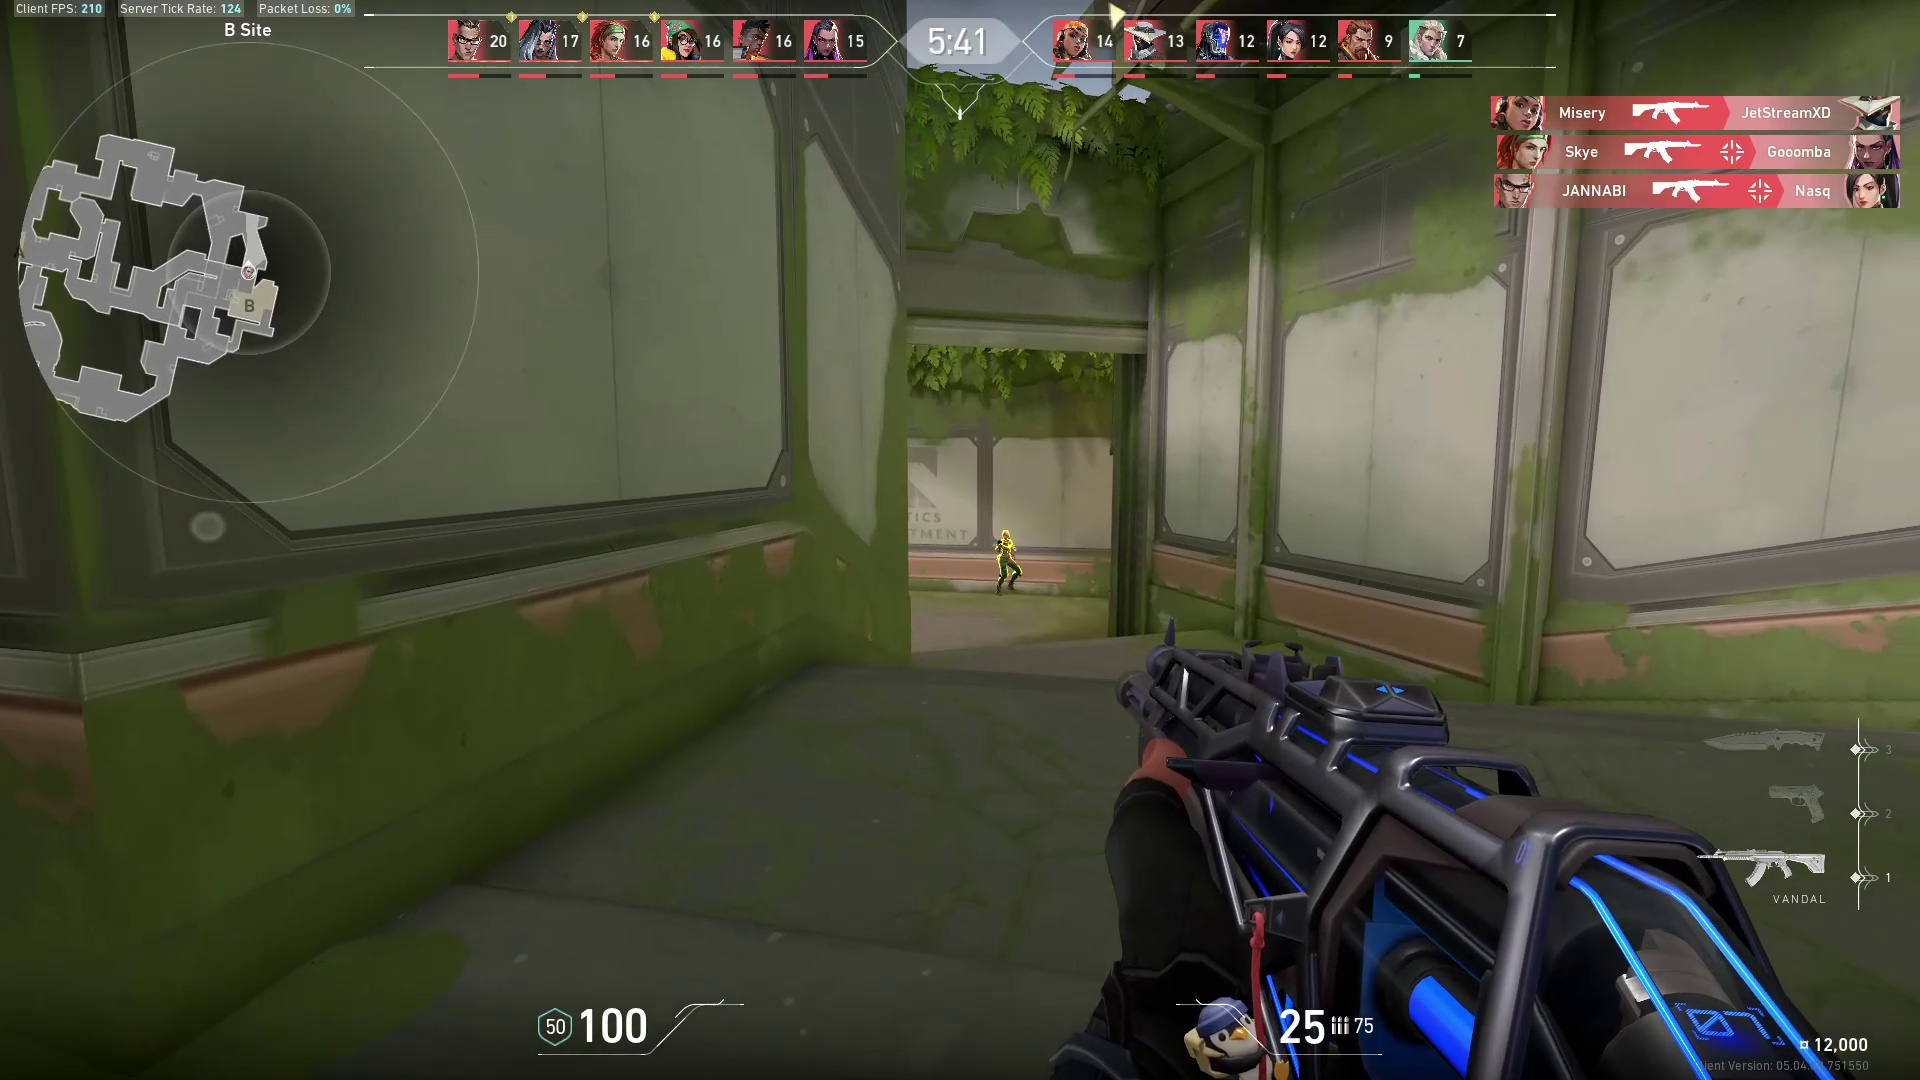enemy_body: (993, 540, 1024, 598)
enemy_head: (1000, 529, 1012, 541)
